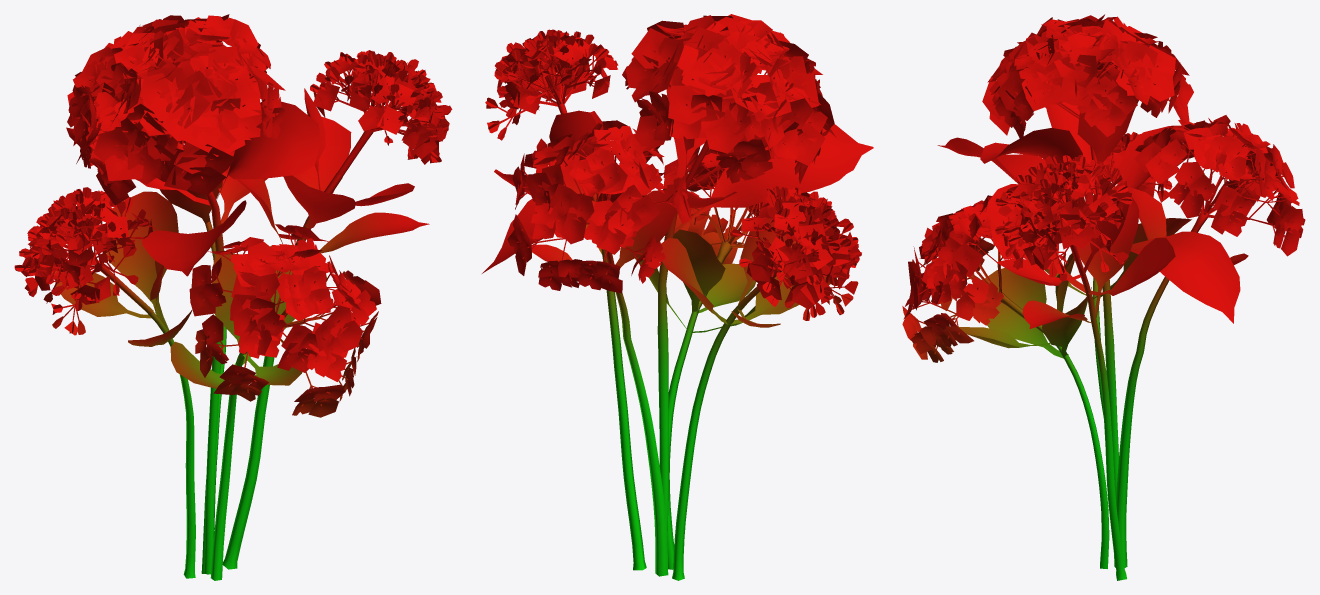
The model's file is Var12_LOD0.fbx.
The picture shows the model from 3 angles, left to right: view 1: azimuth 30°, elevation 25°; view 2: azimuth 150°, elevation 25°; view 3: azimuth 270°, elevation 25°; orthographic projection. The views are drawn at different scales.
Parts seen in each view (by area): view 1: _s3zy_Var12_LOD0; view 2: _s3zy_Var12_LOD0; view 3: _s3zy_Var12_LOD0.
Boxes of the visible parts, bbox=[...] form: _s3zy_Var12_LOD0: bbox=[14, 14, 452, 580]; _s3zy_Var12_LOD0: bbox=[482, 14, 873, 580]; _s3zy_Var12_LOD0: bbox=[902, 14, 1305, 580].
Size of the model in its own units: 36.47 by 50.82 by 35.22.
